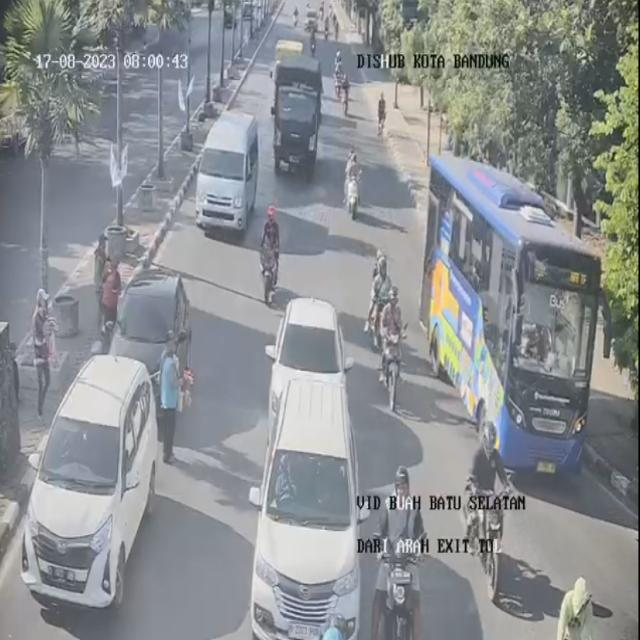bus: (486, 230, 600, 477)
cars: (25, 352, 156, 609), (247, 374, 360, 640), (113, 266, 191, 416), (264, 299, 347, 435), (200, 110, 262, 234), (272, 49, 319, 171), (278, 34, 306, 72)
motorcycle: (376, 464, 427, 632), (463, 429, 506, 587), (376, 276, 406, 404), (368, 235, 392, 369), (258, 206, 286, 306), (344, 141, 367, 222), (332, 48, 351, 113), (309, 28, 320, 59)
